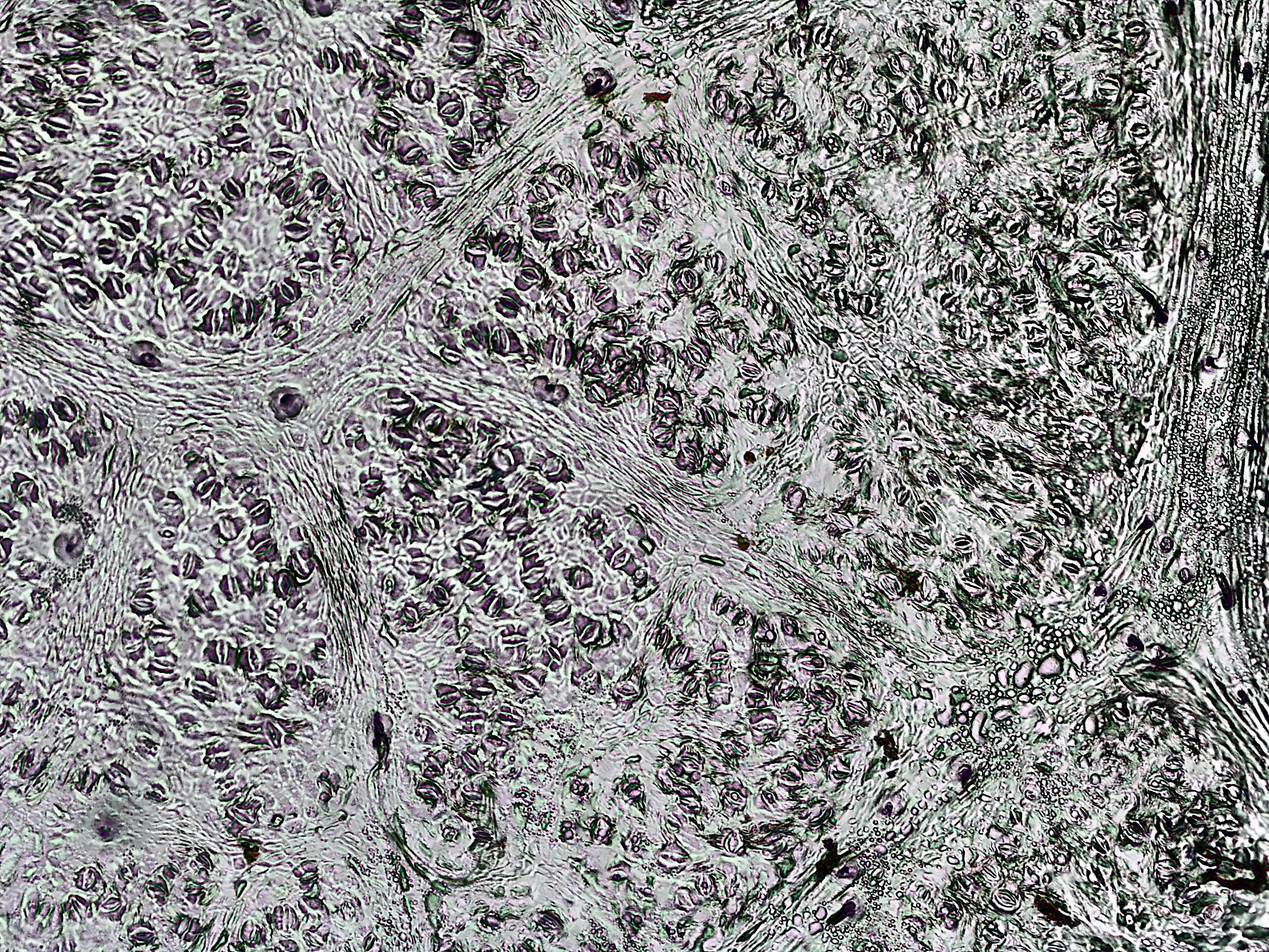stomata: (268, 388, 302, 422), (418, 406, 450, 442), (450, 29, 481, 65), (406, 73, 435, 105), (239, 644, 270, 672), (656, 845, 690, 870), (128, 340, 160, 366), (549, 337, 575, 368), (492, 233, 519, 262), (36, 227, 68, 251), (6, 129, 38, 152), (531, 214, 558, 241), (290, 548, 316, 576), (488, 444, 513, 473), (195, 476, 221, 503), (193, 202, 223, 225), (103, 763, 130, 788), (543, 595, 570, 620), (74, 90, 106, 111), (31, 176, 63, 197), (385, 37, 413, 61), (274, 278, 302, 302), (500, 623, 529, 646), (205, 309, 230, 335), (233, 297, 259, 322), (149, 154, 172, 182), (220, 127, 248, 150), (133, 44, 161, 67), (408, 183, 436, 206), (60, 60, 92, 80), (182, 26, 214, 46), (480, 488, 509, 510), (42, 115, 72, 136), (480, 75, 506, 99), (750, 714, 778, 736), (115, 214, 140, 238), (167, 262, 197, 282), (275, 568, 295, 598), (53, 395, 76, 421), (180, 288, 206, 311), (191, 677, 217, 700), (773, 96, 796, 122), (267, 145, 294, 167), (375, 106, 402, 128), (133, 247, 158, 270), (578, 620, 601, 645), (608, 545, 631, 570), (283, 220, 309, 242), (550, 289, 573, 313), (1121, 820, 1145, 843), (679, 442, 702, 466), (320, 45, 339, 74), (461, 653, 490, 672), (220, 252, 241, 278), (104, 273, 125, 299), (794, 653, 826, 670), (148, 653, 175, 673), (458, 710, 488, 728), (468, 682, 496, 701), (956, 577, 984, 596), (284, 108, 307, 131), (683, 343, 706, 366), (589, 380, 611, 404), (240, 920, 261, 945), (722, 787, 747, 808), (937, 79, 958, 104), (186, 231, 212, 251), (262, 721, 282, 747), (91, 172, 118, 191), (649, 425, 676, 444), (128, 594, 155, 613), (128, 926, 155, 945), (992, 31, 1011, 58), (1193, 846, 1220, 865), (569, 567, 591, 590), (770, 330, 791, 354), (436, 685, 460, 706), (194, 59, 214, 84), (217, 514, 237, 539), (942, 34, 958, 65), (222, 100, 248, 119), (561, 248, 580, 274), (877, 109, 896, 135), (148, 625, 175, 643), (515, 673, 542, 691), (541, 454, 563, 476), (222, 178, 246, 198), (77, 866, 97, 890), (677, 751, 701, 771), (695, 872, 715, 896), (223, 573, 242, 598), (519, 565, 544, 584), (493, 328, 511, 354), (724, 831, 745, 853), (704, 250, 724, 273), (213, 636, 230, 663), (415, 782, 442, 799), (612, 682, 639, 699), (1154, 812, 1173, 836), (1028, 326, 1047, 350), (903, 89, 922, 113), (460, 536, 484, 555), (862, 393, 881, 417), (788, 484, 806, 509), (395, 15, 423, 31), (674, 795, 702, 811), (809, 690, 835, 707), (95, 240, 116, 261), (191, 146, 213, 166), (483, 593, 503, 615), (956, 466, 976, 488), (431, 457, 453, 477), (681, 268, 700, 291), (145, 878, 168, 897), (670, 645, 689, 668), (182, 553, 200, 577), (496, 294, 520, 312), (908, 534, 932, 552), (653, 396, 677, 414), (827, 57, 845, 81), (761, 298, 779, 322), (624, 157, 641, 182), (627, 253, 647, 274), (280, 183, 299, 205), (995, 889, 1017, 908), (1098, 224, 1117, 246), (252, 538, 274, 557), (606, 197, 622, 223), (519, 265, 542, 283), (439, 101, 463, 118), (695, 308, 719, 325), (65, 19, 90, 35), (462, 782, 482, 802), (729, 273, 745, 298), (497, 710, 522, 726), (461, 750, 480, 771), (858, 294, 877, 315), (532, 181, 551, 202), (779, 616, 798, 637), (108, 69, 130, 87), (622, 779, 644, 797), (517, 83, 539, 101), (1066, 17, 1084, 39), (188, 595, 206, 617), (656, 624, 670, 652), (1059, 114, 1082, 131), (416, 514, 439, 531), (829, 511, 852, 528), (447, 139, 473, 154), (580, 348, 595, 374), (712, 90, 728, 114), (228, 79, 248, 98), (823, 133, 842, 153), (641, 143, 659, 164), (16, 29, 41, 44), (801, 207, 823, 224), (871, 75, 888, 97), (656, 188, 672, 211), (1154, 859, 1177, 875), (1217, 820, 1240, 836), (3, 399, 19, 422), (296, 258, 322, 272), (430, 584, 449, 603), (825, 259, 844, 278), (846, 456, 865, 475), (657, 291, 676, 310), (1053, 383, 1072, 402), (403, 145, 423, 163), (249, 499, 269, 517), (465, 241, 489, 256), (779, 772, 803, 787), (699, 406, 717, 426), (1067, 287, 1091, 302), (146, 784, 167, 801), (1130, 92, 1151, 109), (710, 445, 726, 467), (758, 77, 780, 93), (885, 54, 901, 76), (1181, 887, 1203, 903), (329, 254, 352, 269), (707, 649, 730, 664), (343, 50, 358, 73), (545, 645, 563, 664), (1091, 833, 1109, 852), (1090, 316, 1108, 335), (980, 252, 999, 270), (836, 180, 855, 198), (441, 347, 460, 365), (675, 244, 693, 263), (1186, 810, 1206, 827), (1125, 210, 1145, 227), (452, 499, 469, 519), (891, 432, 917, 445), (499, 60, 523, 74), (470, 826, 494, 840), (1021, 532, 1042, 548), (1120, 158, 1141, 174), (626, 373, 641, 395), (1124, 21, 1146, 36), (1093, 378, 1115, 393), (1007, 219, 1025, 237), (596, 145, 613, 164), (666, 814, 683, 833), (994, 551, 1013, 568), (881, 576, 898, 595), (1222, 785, 1241, 802), (1013, 290, 1036, 304), (244, 20, 264, 36), (558, 168, 574, 188), (519, 541, 539, 557), (1149, 775, 1169, 791), (1033, 916, 1053, 932), (100, 896, 121, 911), (850, 99, 865, 120), (739, 364, 763, 377), (1098, 38, 1120, 52), (775, 401, 789, 423), (99, 128, 121, 142), (760, 789, 778, 806), (919, 507, 936, 525), (15, 479, 32, 497), (194, 854, 213, 870), (683, 677, 699, 696), (540, 911, 559, 927), (803, 749, 822, 765), (466, 570, 485, 586), (638, 216, 657, 232), (588, 517, 604, 536), (138, 6, 157, 22), (781, 134, 796, 154), (789, 31, 801, 56), (1051, 502, 1071, 517), (843, 673, 863, 688), (271, 324, 291, 339), (484, 735, 507, 748), (1202, 905, 1223, 919), (979, 442, 996, 459), (404, 604, 420, 622), (1165, 756, 1183, 772), (1009, 252, 1025, 270), (867, 250, 885, 266), (815, 28, 831, 46), (917, 28, 929, 52), (1080, 260, 1098, 276), (952, 537, 974, 550), (750, 404, 763, 426), (1098, 191, 1117, 206), (834, 289, 849, 308), (1007, 583, 1026, 598), (983, 929, 1003, 943), (313, 689, 327, 709), (761, 180, 774, 201), (312, 180, 330, 195), (646, 343, 661, 361), (1066, 350, 1085, 364), (341, 900, 354, 920), (998, 843, 1018, 856), (754, 126, 767, 146), (1099, 81, 1119, 94), (31, 74, 47, 90), (1034, 197, 1057, 208), (832, 766, 853, 778), (381, 574, 395, 592), (757, 657, 775, 671), (1130, 123, 1149, 136), (1058, 80, 1077, 93), (1056, 319, 1072, 334), (298, 872, 318, 884), (1148, 708, 1165, 722), (1111, 708, 1129, 721), (1096, 130, 1114, 143), (959, 322, 972, 340), (849, 703, 868, 715), (1062, 561, 1081, 573), (164, 862, 179, 877), (983, 863, 997, 879), (940, 293, 956, 307), (954, 265, 967, 282), (992, 505, 1006, 520), (926, 469, 939, 485), (1137, 736, 1153, 749), (808, 546, 820, 563), (826, 448, 843, 460), (1033, 254, 1045, 270), (897, 488, 908, 505), (720, 180, 731, 194), (919, 889, 930, 901)
